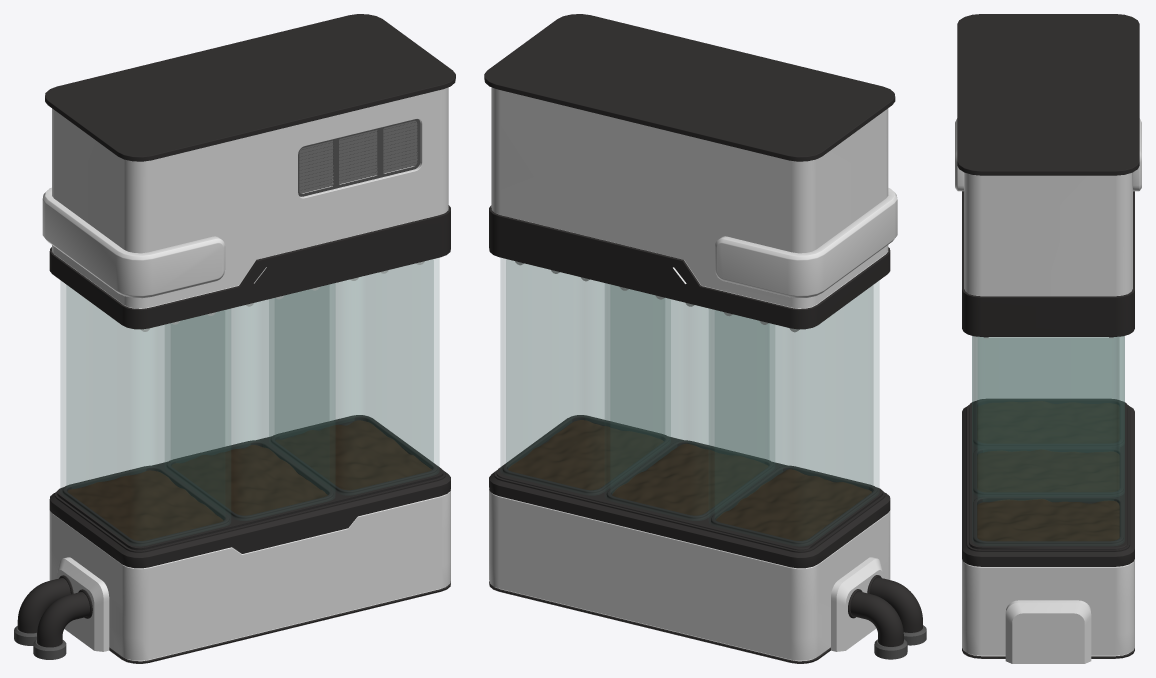
The model's file is incubator.gltf.
3 renders of one model, left to right at view 1: azimuth 30°, elevation 25°; view 2: azimuth 150°, elevation 25°; view 3: azimuth 270°, elevation 25°, orthographic. The views are drawn at different scales.
Visible parts, largest first — view 1: Cube, Glass case, Cube.002, Cube.001, Plane.001, Plane, Cube.005, Plane.002, Cube.006, Circle, Circle.001; view 2: Cube, Glass case, Cube.002, Cube.001, Plane.001, Plane, Plane.002, Cube.006, Circle.001, Circle; view 3: Cube, Glass case, Cube.002, Plane.001, Plane, Plane.002, Cube.007, Cube.001.
Boxes of the visible parts, x1,y1,x2,y2 form: Cube: (45,14,455,329); Glass case: (61,258,438,545); Cube.002: (49,415,450,663); Cube.001: (42,187,225,298); Plane.001: (171,445,327,515); Plane: (67,470,223,540); Cube.005: (298,119,420,196); Plane.002: (275,420,431,490); Cube.006: (56,557,109,651); Circle: (33,589,92,659); Circle.001: (14,575,73,645); Cube: (484,14,895,329); Glass case: (501,258,878,545); Cube.002: (489,415,890,663); Cube.001: (715,188,897,298); Plane.001: (612,443,768,515); Plane: (716,469,871,540); Plane.002: (508,420,663,490); Cube.006: (831,557,883,651); Circle.001: (848,589,907,659); Circle: (867,575,926,645); Cube: (957,14,1139,336); Glass case: (972,336,1124,545); Cube.002: (962,399,1134,658); Plane.001: (977,449,1119,492); Plane: (977,401,1119,443); Plane.002: (977,498,1119,541); Cube.007: (1005,600,1091,663); Cube.001: (955,118,1141,191).
Bounding box in the file's own units: 1.91 × 2.32 × 0.8029.
